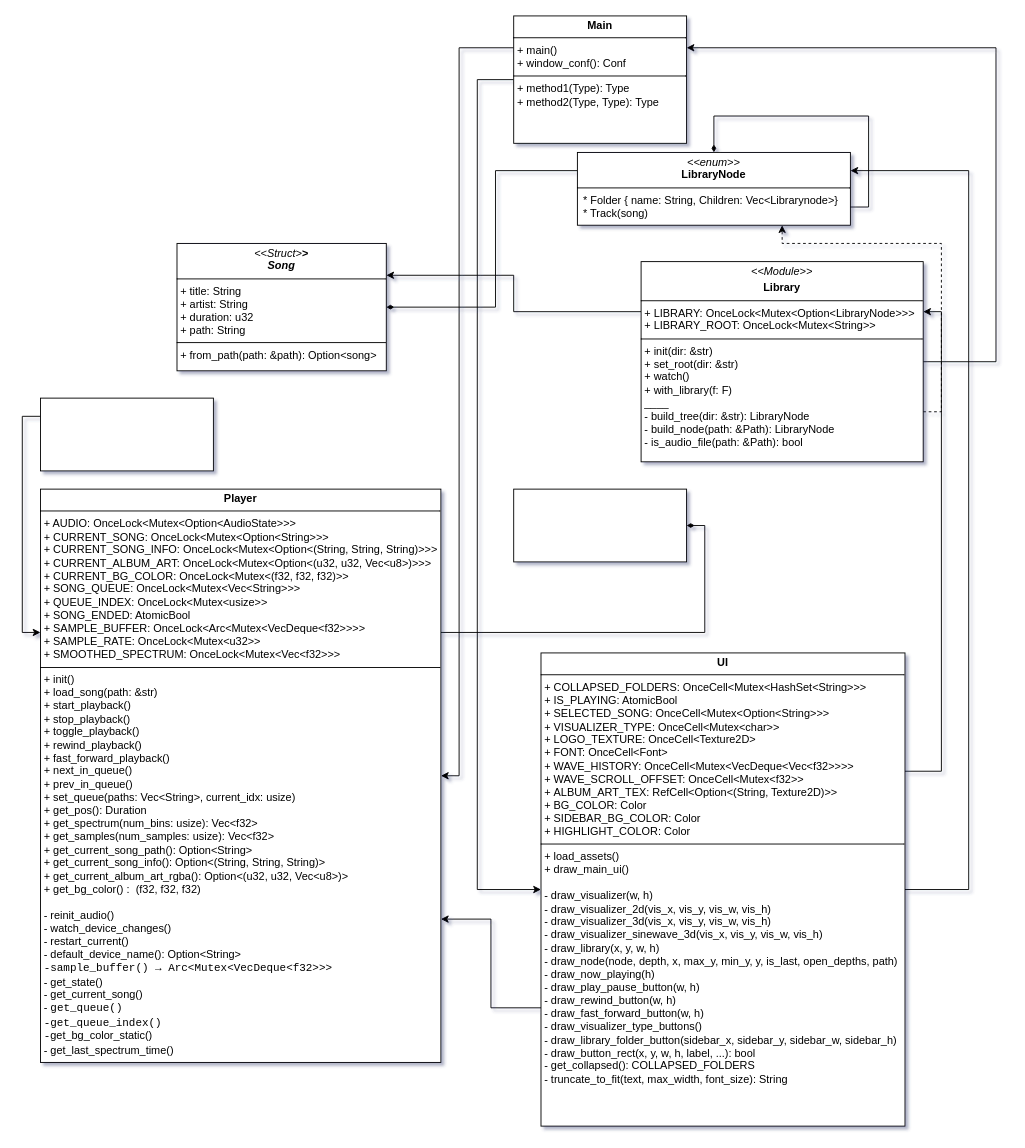
Image size: 1025x1148. Some labels were removed from this diagram. Here are the shapes that lost their labels. From the top down, the centre of each, then its label:
At point (126, 434): "<<Struct>> - SampleCapture<S> - inner: s - buffer: Arc<Mutex<VecDeque<f32>>>".
At point (600, 525): "<<Struct>> - AudioState - player: Player - _sink: MixerDeviceSink".
